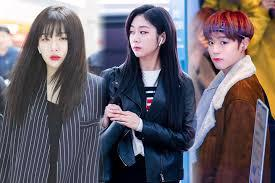earphone: (157, 37, 165, 47), (36, 46, 42, 55)
